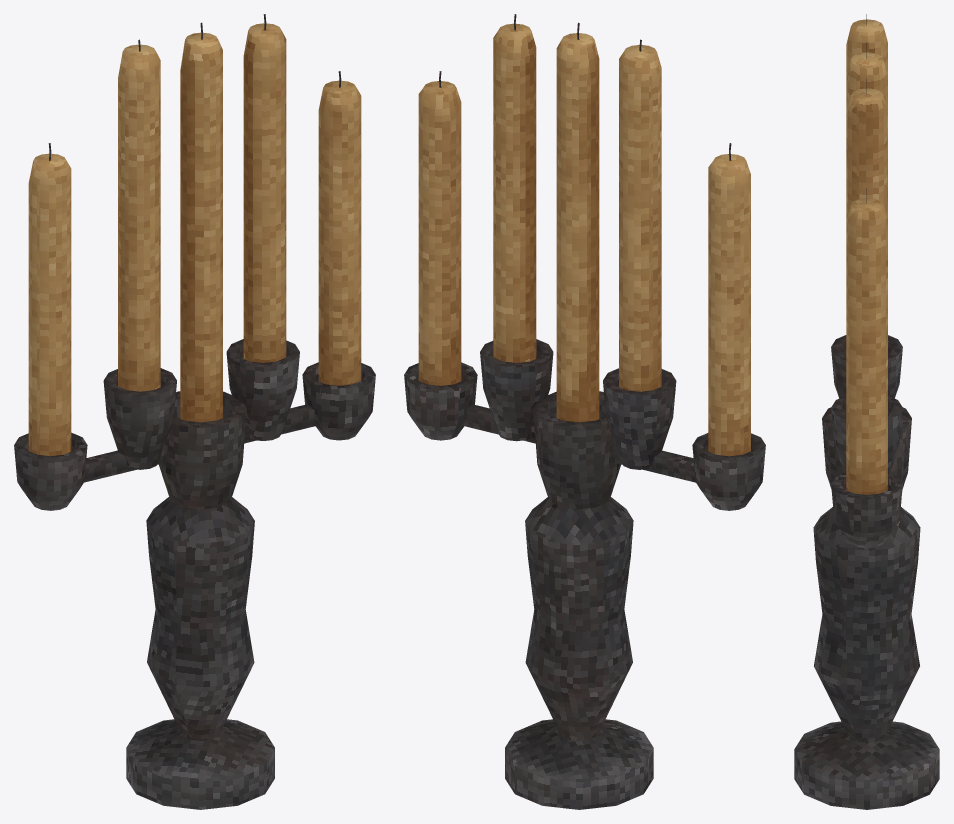
The model's file is Candelabra_3.gltf.
The picture shows the model from 3 angles, left to right: view 1: azimuth 30°, elevation 25°; view 2: azimuth 150°, elevation 25°; view 3: azimuth 270°, elevation 25°; orthographic projection. The views are drawn at different scales.
Parts seen in each view (by area): view 1: Candelabra_3; view 2: Candelabra_3; view 3: Candelabra_3.
Boxes of the visible parts, x1,y1,x2,y2 form: Candelabra_3: (14, 14, 375, 809); Candelabra_3: (404, 14, 765, 809); Candelabra_3: (794, 14, 939, 809).
Size of the model in its own units: 2.05 by 4.2 by 0.7506.
Materials: 1 (1 with a texture image).
